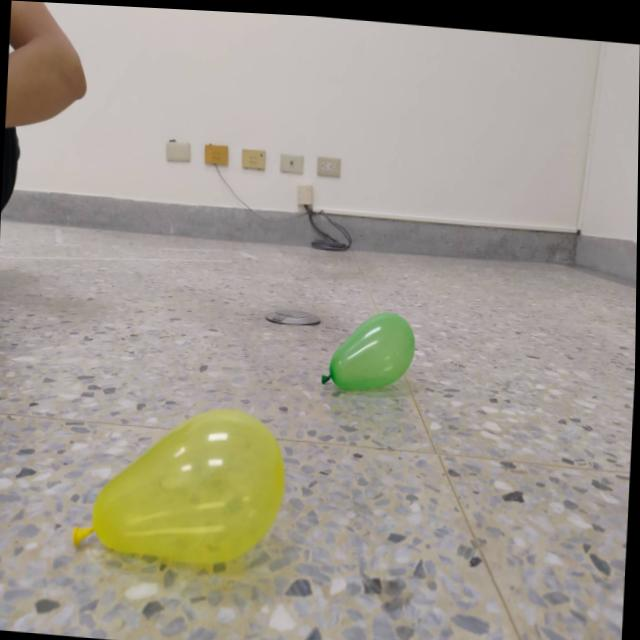other: (75, 394, 290, 570), (323, 300, 419, 392)
